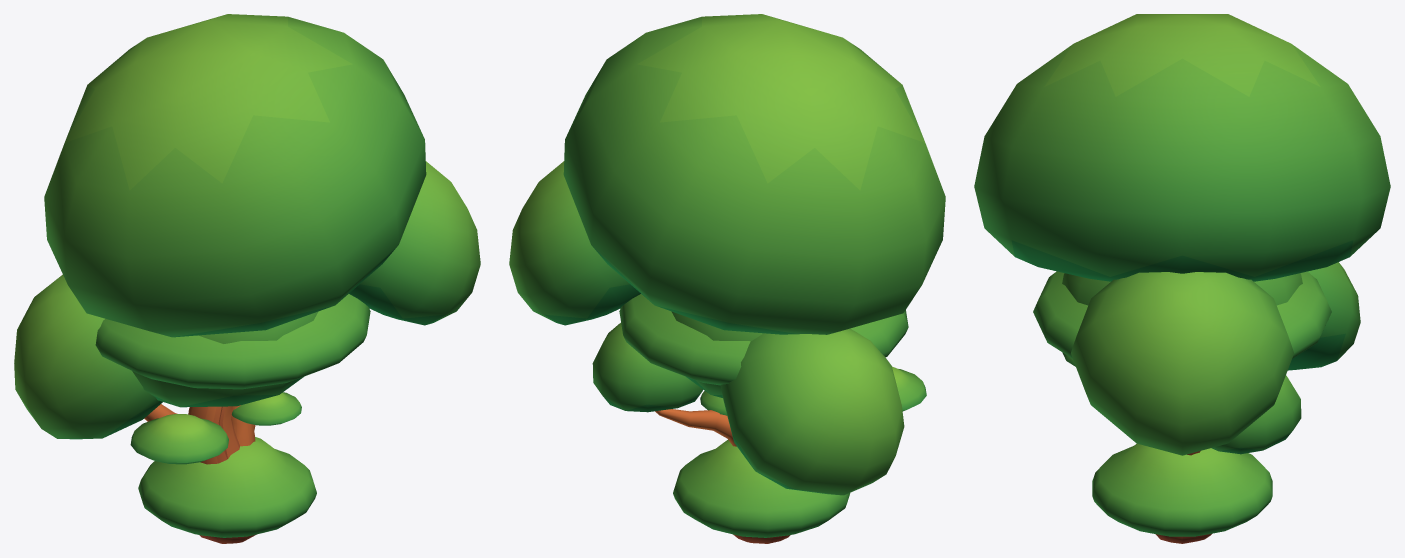
Rendered from campus-nature.glb.
3 renders of one model, left to right at view 1: azimuth 30°, elevation 25°; view 2: azimuth 150°, elevation 25°; view 3: azimuth 270°, elevation 25°, orthographic. The views are drawn at different scales.
Visible parts, largest first — view 1: tree-tall, tree-spreading, shrub, tree-round; view 2: tree-tall, shrub, tree-spreading, tree-round; view 3: tree-tall, shrub, tree-spreading, tree-round.
Part boxes in pixels (x1,y1,x2,y2): tree-tall: (14, 14, 480, 543); tree-spreading: (95, 294, 370, 464); shrub: (138, 437, 316, 537); tree-round: (132, 311, 318, 446); tree-tall: (509, 14, 945, 543); shrub: (673, 439, 850, 537); tree-spreading: (619, 294, 926, 415); tree-round: (592, 311, 763, 446); tree-tall: (974, 14, 1390, 543); shrub: (1092, 443, 1272, 536); tree-spreading: (1033, 271, 1331, 366); tree-round: (1062, 273, 1302, 455).
Bounding box in the file's own units: 6.69 × 7.81 × 5.75.
1 material, 1 textured.
